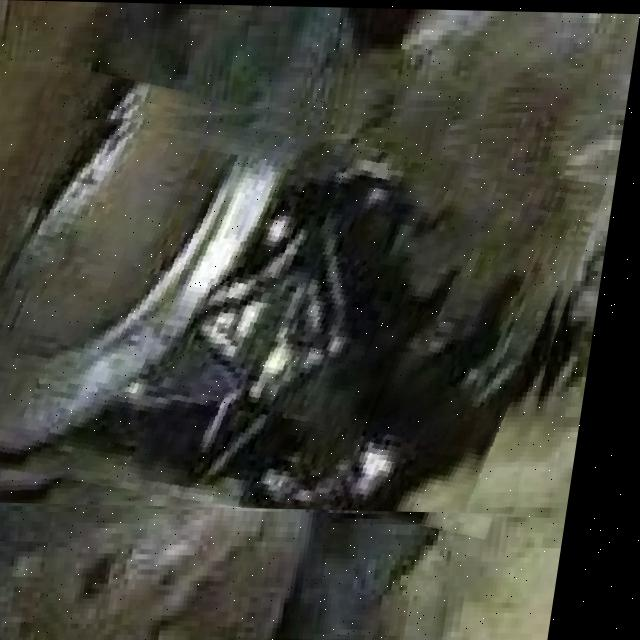litter: (0, 87, 608, 512)
